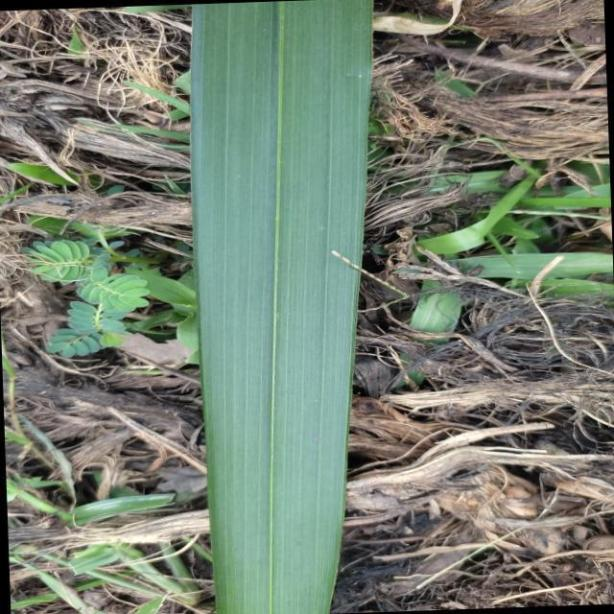Healthy: (187, 0, 377, 614)
